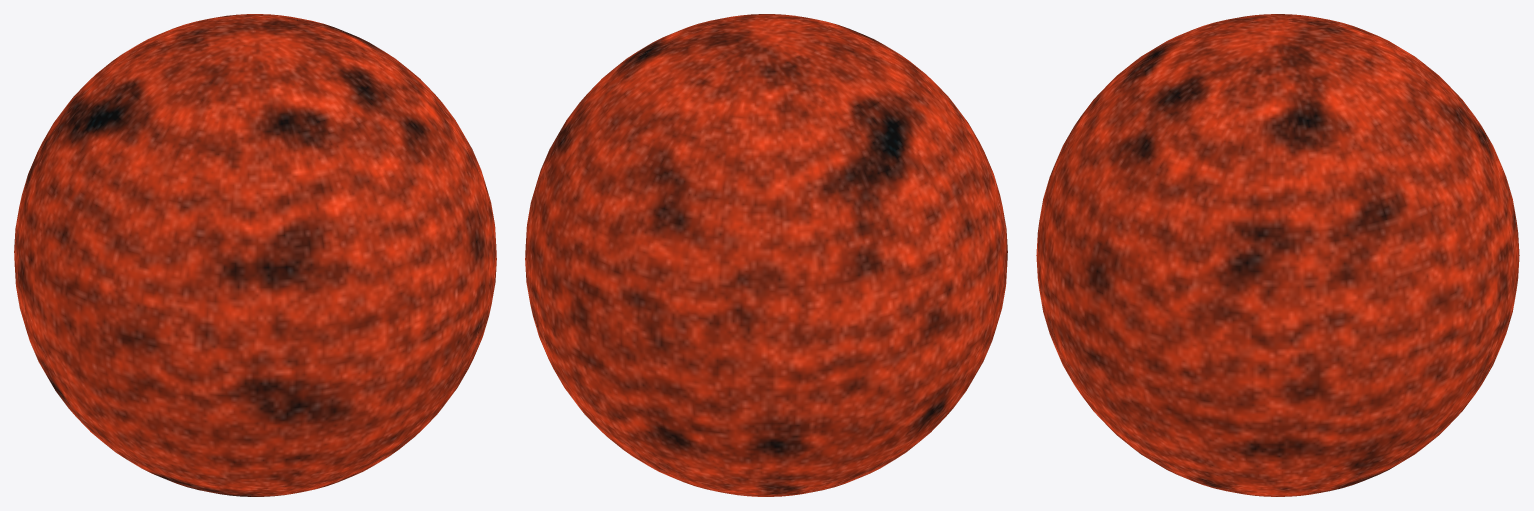
Rendered from estrela-giant.glb.
3 views of the same model, side by side, from view 1: azimuth 30°, elevation 25°; view 2: azimuth 150°, elevation 25°; view 3: azimuth 270°, elevation 25° (orthographic).
Parts seen in each view (by area): view 1: Fotosfera · giant; view 2: Fotosfera · giant; view 3: Fotosfera · giant.
Part boxes in pixels (x1,y1,x2,y2): Fotosfera · giant: (14,14,496,496); Fotosfera · giant: (525,14,1007,496); Fotosfera · giant: (1036,14,1519,496).
Size of the model in its own units: 2 by 2 by 2.
Materials: 1 (1 with a texture image).
